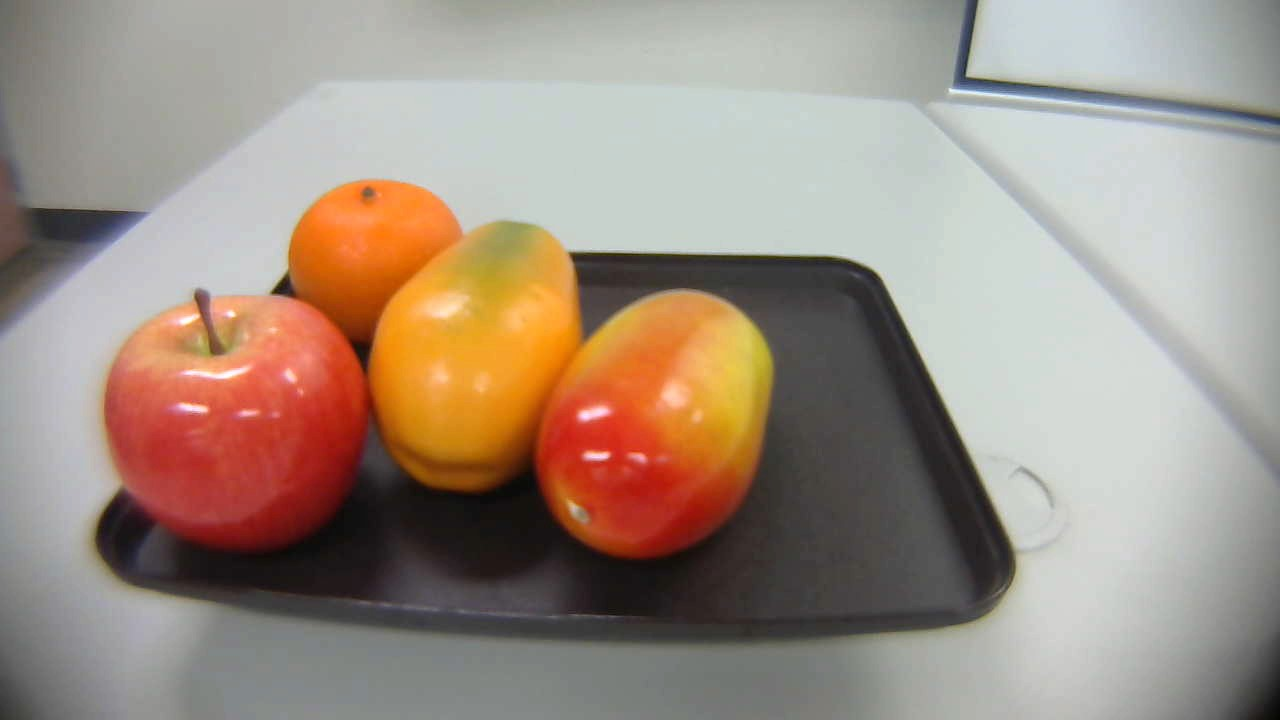orange: (273, 168, 472, 343)
papya: (370, 213, 592, 509)
red apple: (102, 284, 383, 546)
red mango: (530, 284, 775, 564)
